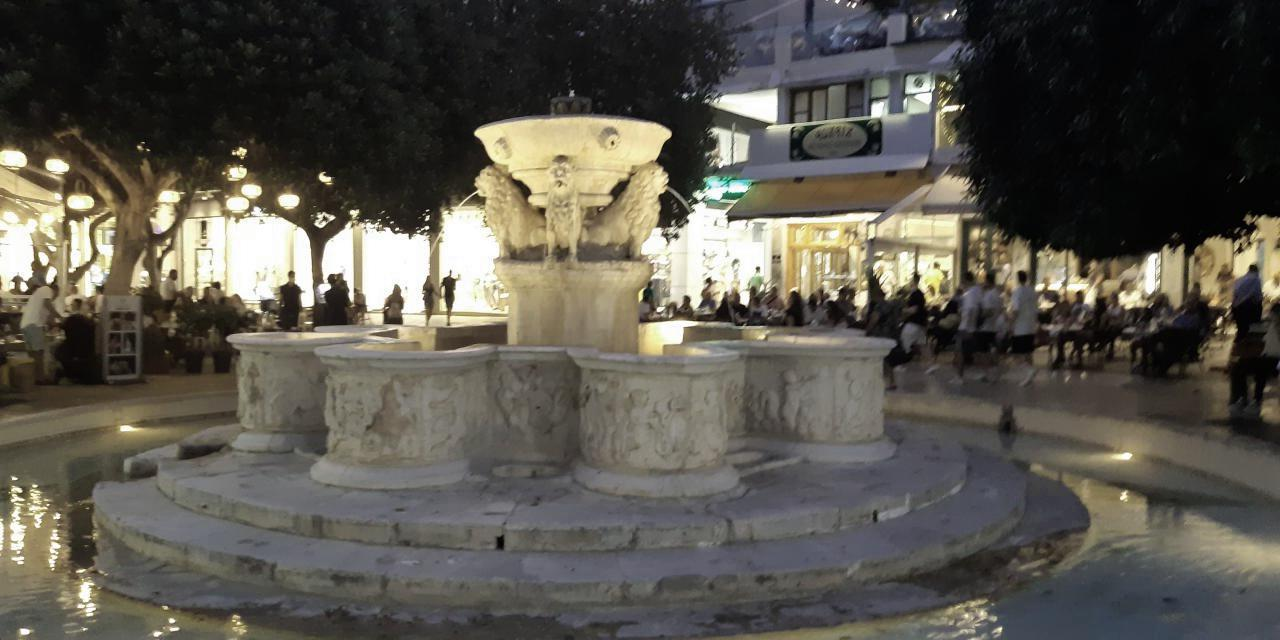Liontaria: (229, 111, 894, 496)
